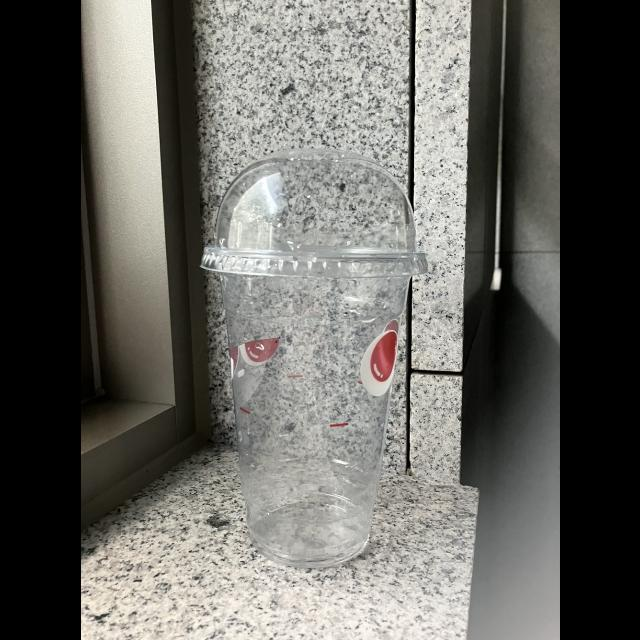plastic_cup: (196, 150, 434, 568)
plastic_cup_lid: (202, 154, 432, 278)
